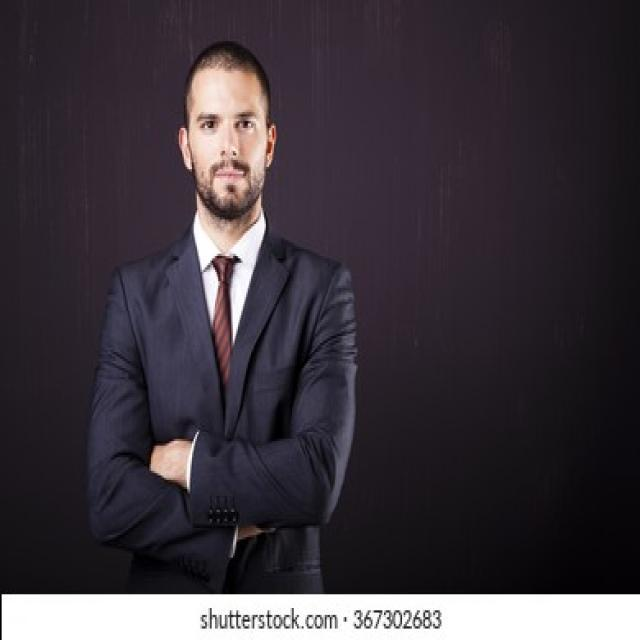No_BreathingApparatus: (182, 95, 275, 217)
No_Goggles: (191, 106, 266, 140)
No_Harness: (95, 216, 355, 565)
No_Helmet: (177, 37, 273, 101)
Person: (40, 10, 380, 595)
